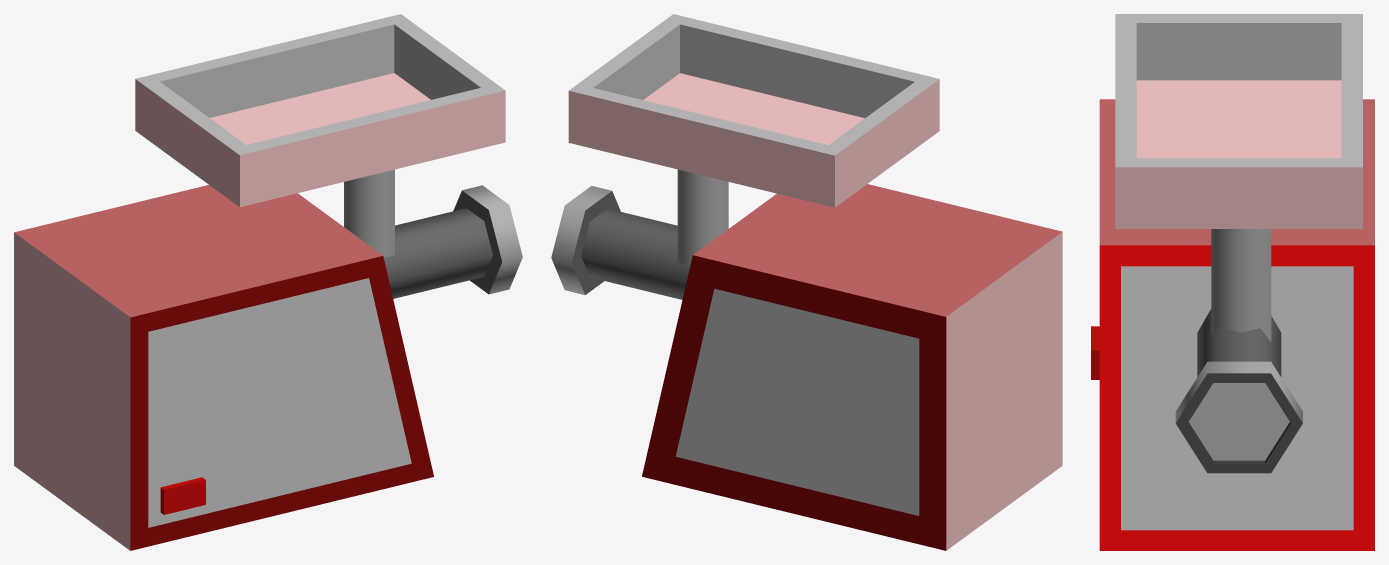
The model's file is Meat Grinder.fbx.
3 views of the same model, side by side, from view 1: azimuth 30°, elevation 25°; view 2: azimuth 150°, elevation 25°; view 3: azimuth 270°, elevation 25° (orthographic). The views are drawn at different scales.
Visible parts, largest first — view 1: Meat Grinder; view 2: Meat Grinder; view 3: Meat Grinder.
Boxes of the visible parts, x1,y1,x2,y2 form: Meat Grinder: (14, 14, 522, 550); Meat Grinder: (551, 14, 1062, 550); Meat Grinder: (1091, 14, 1374, 550).
Size of the model in its own units: 55.69 by 45.42 by 27.26.
